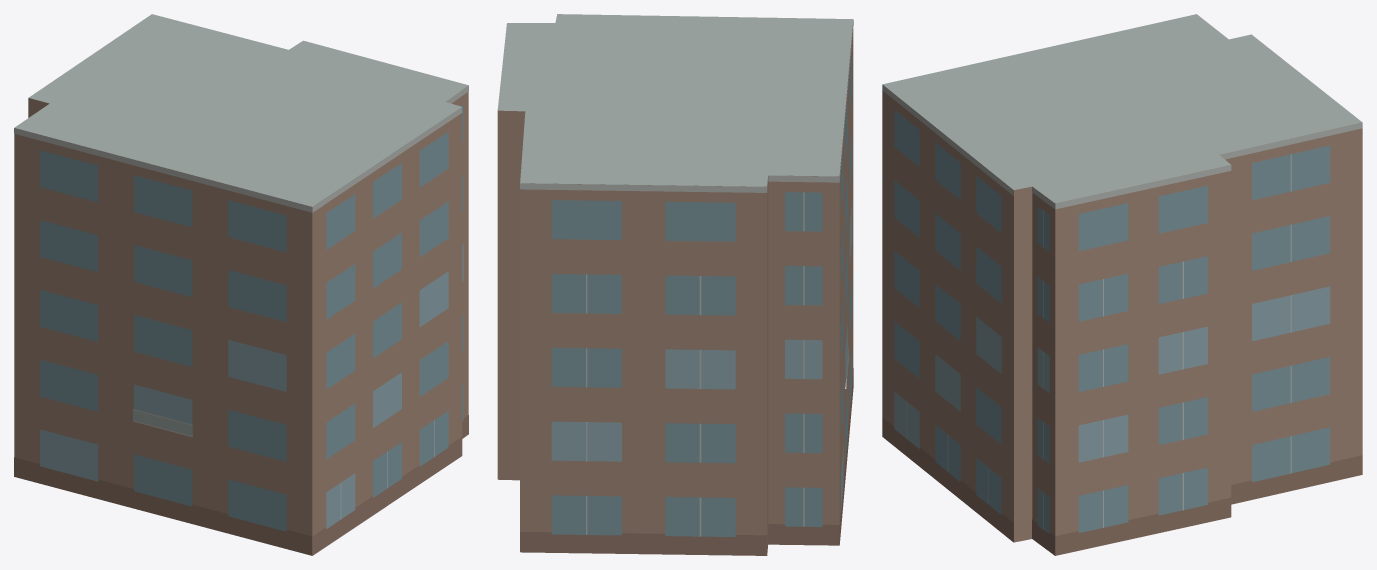
File: survey-upis-33045152.glb
The picture shows the model from 3 angles, left to right: view 1: azimuth 30°, elevation 25°; view 2: azimuth 150°, elevation 25°; view 3: azimuth 270°, elevation 25°; orthographic projection. The views are drawn at different scales.
Parts seen in each view (by area): view 1: survey-upis-33045152.tmp; view 2: survey-upis-33045152.tmp; view 3: survey-upis-33045152.tmp.
Boxes of the visible parts, x1,y1,x2,y2 form: survey-upis-33045152.tmp: (14, 14, 468, 555); survey-upis-33045152.tmp: (497, 14, 853, 555); survey-upis-33045152.tmp: (882, 14, 1362, 555).
Size of the model in its own units: 16.73 by 14.5 by 17.92.
